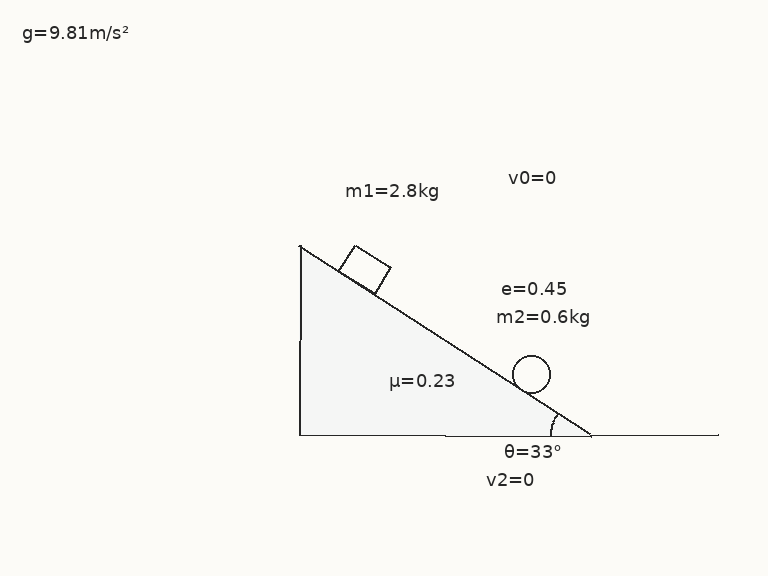ball: (510, 353, 552, 395)
block: (336, 243, 392, 296)
ramp: (297, 243, 593, 437)
